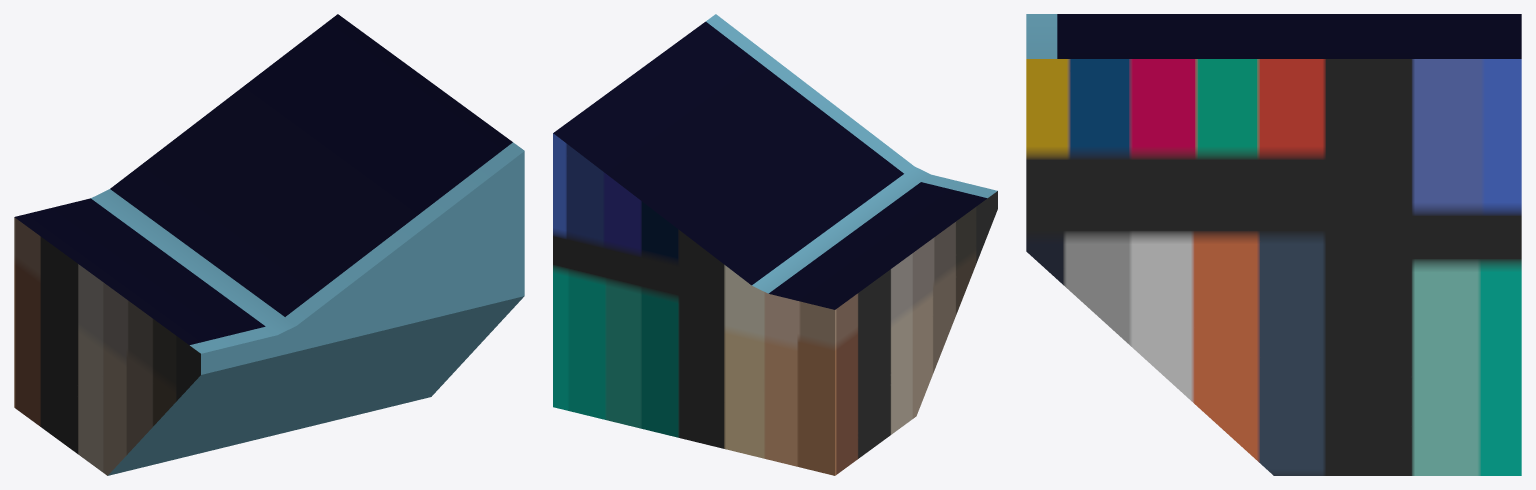
File: tile_5_1_0.gltf
The picture shows the model from 3 angles, left to right: view 1: azimuth 30°, elevation 25°; view 2: azimuth 150°, elevation 25°; view 3: azimuth 270°, elevation 25°; orthographic projection. The views are drawn at different scales.
Parts seen in each view (by area): view 1: arena.floor.corners.040; view 2: arena.floor.corners.040; view 3: arena.floor.corners.040.
Boxes of the visible parts, left/top/right/bottom form: arena.floor.corners.040: left=14, top=14, right=524, bottom=475; arena.floor.corners.040: left=553, top=14, right=997, bottom=475; arena.floor.corners.040: left=1026, top=14, right=1521, bottom=475.
Size of the model in its own units: 8 by 7.43 by 8.
Materials: 1 (1 with a texture image).
